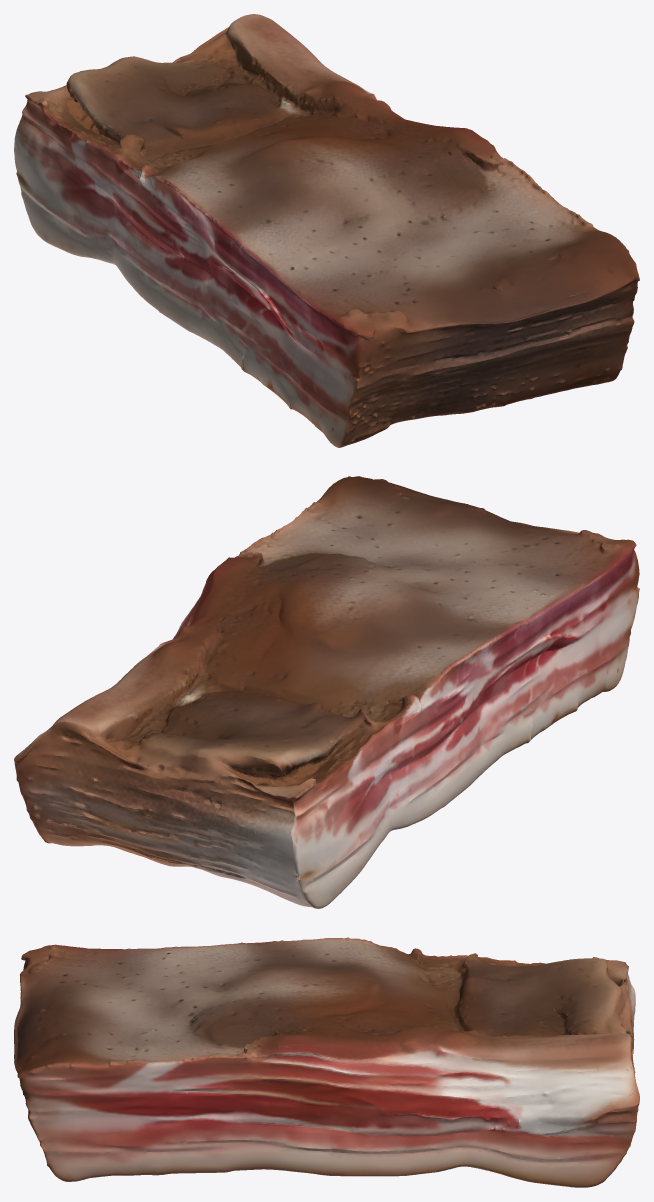
The model's file is compressed-pancetta.glb.
3 views of the same model, one above another, from view 1: azimuth 30°, elevation 25°; view 2: azimuth 150°, elevation 25°; view 3: azimuth 270°, elevation 25° (orthographic). The views are drawn at different scales.
Parts seen in each view (by area): view 1: model; view 2: model; view 3: model.
Boxes of the visible parts, x1,y1,x2,y2 form: model: [14, 14, 639, 447]; model: [14, 476, 639, 908]; model: [14, 937, 639, 1187].
Size of the model in its own units: 0.9114 by 0.4816 by 1.89.
1 material, 1 textured.
